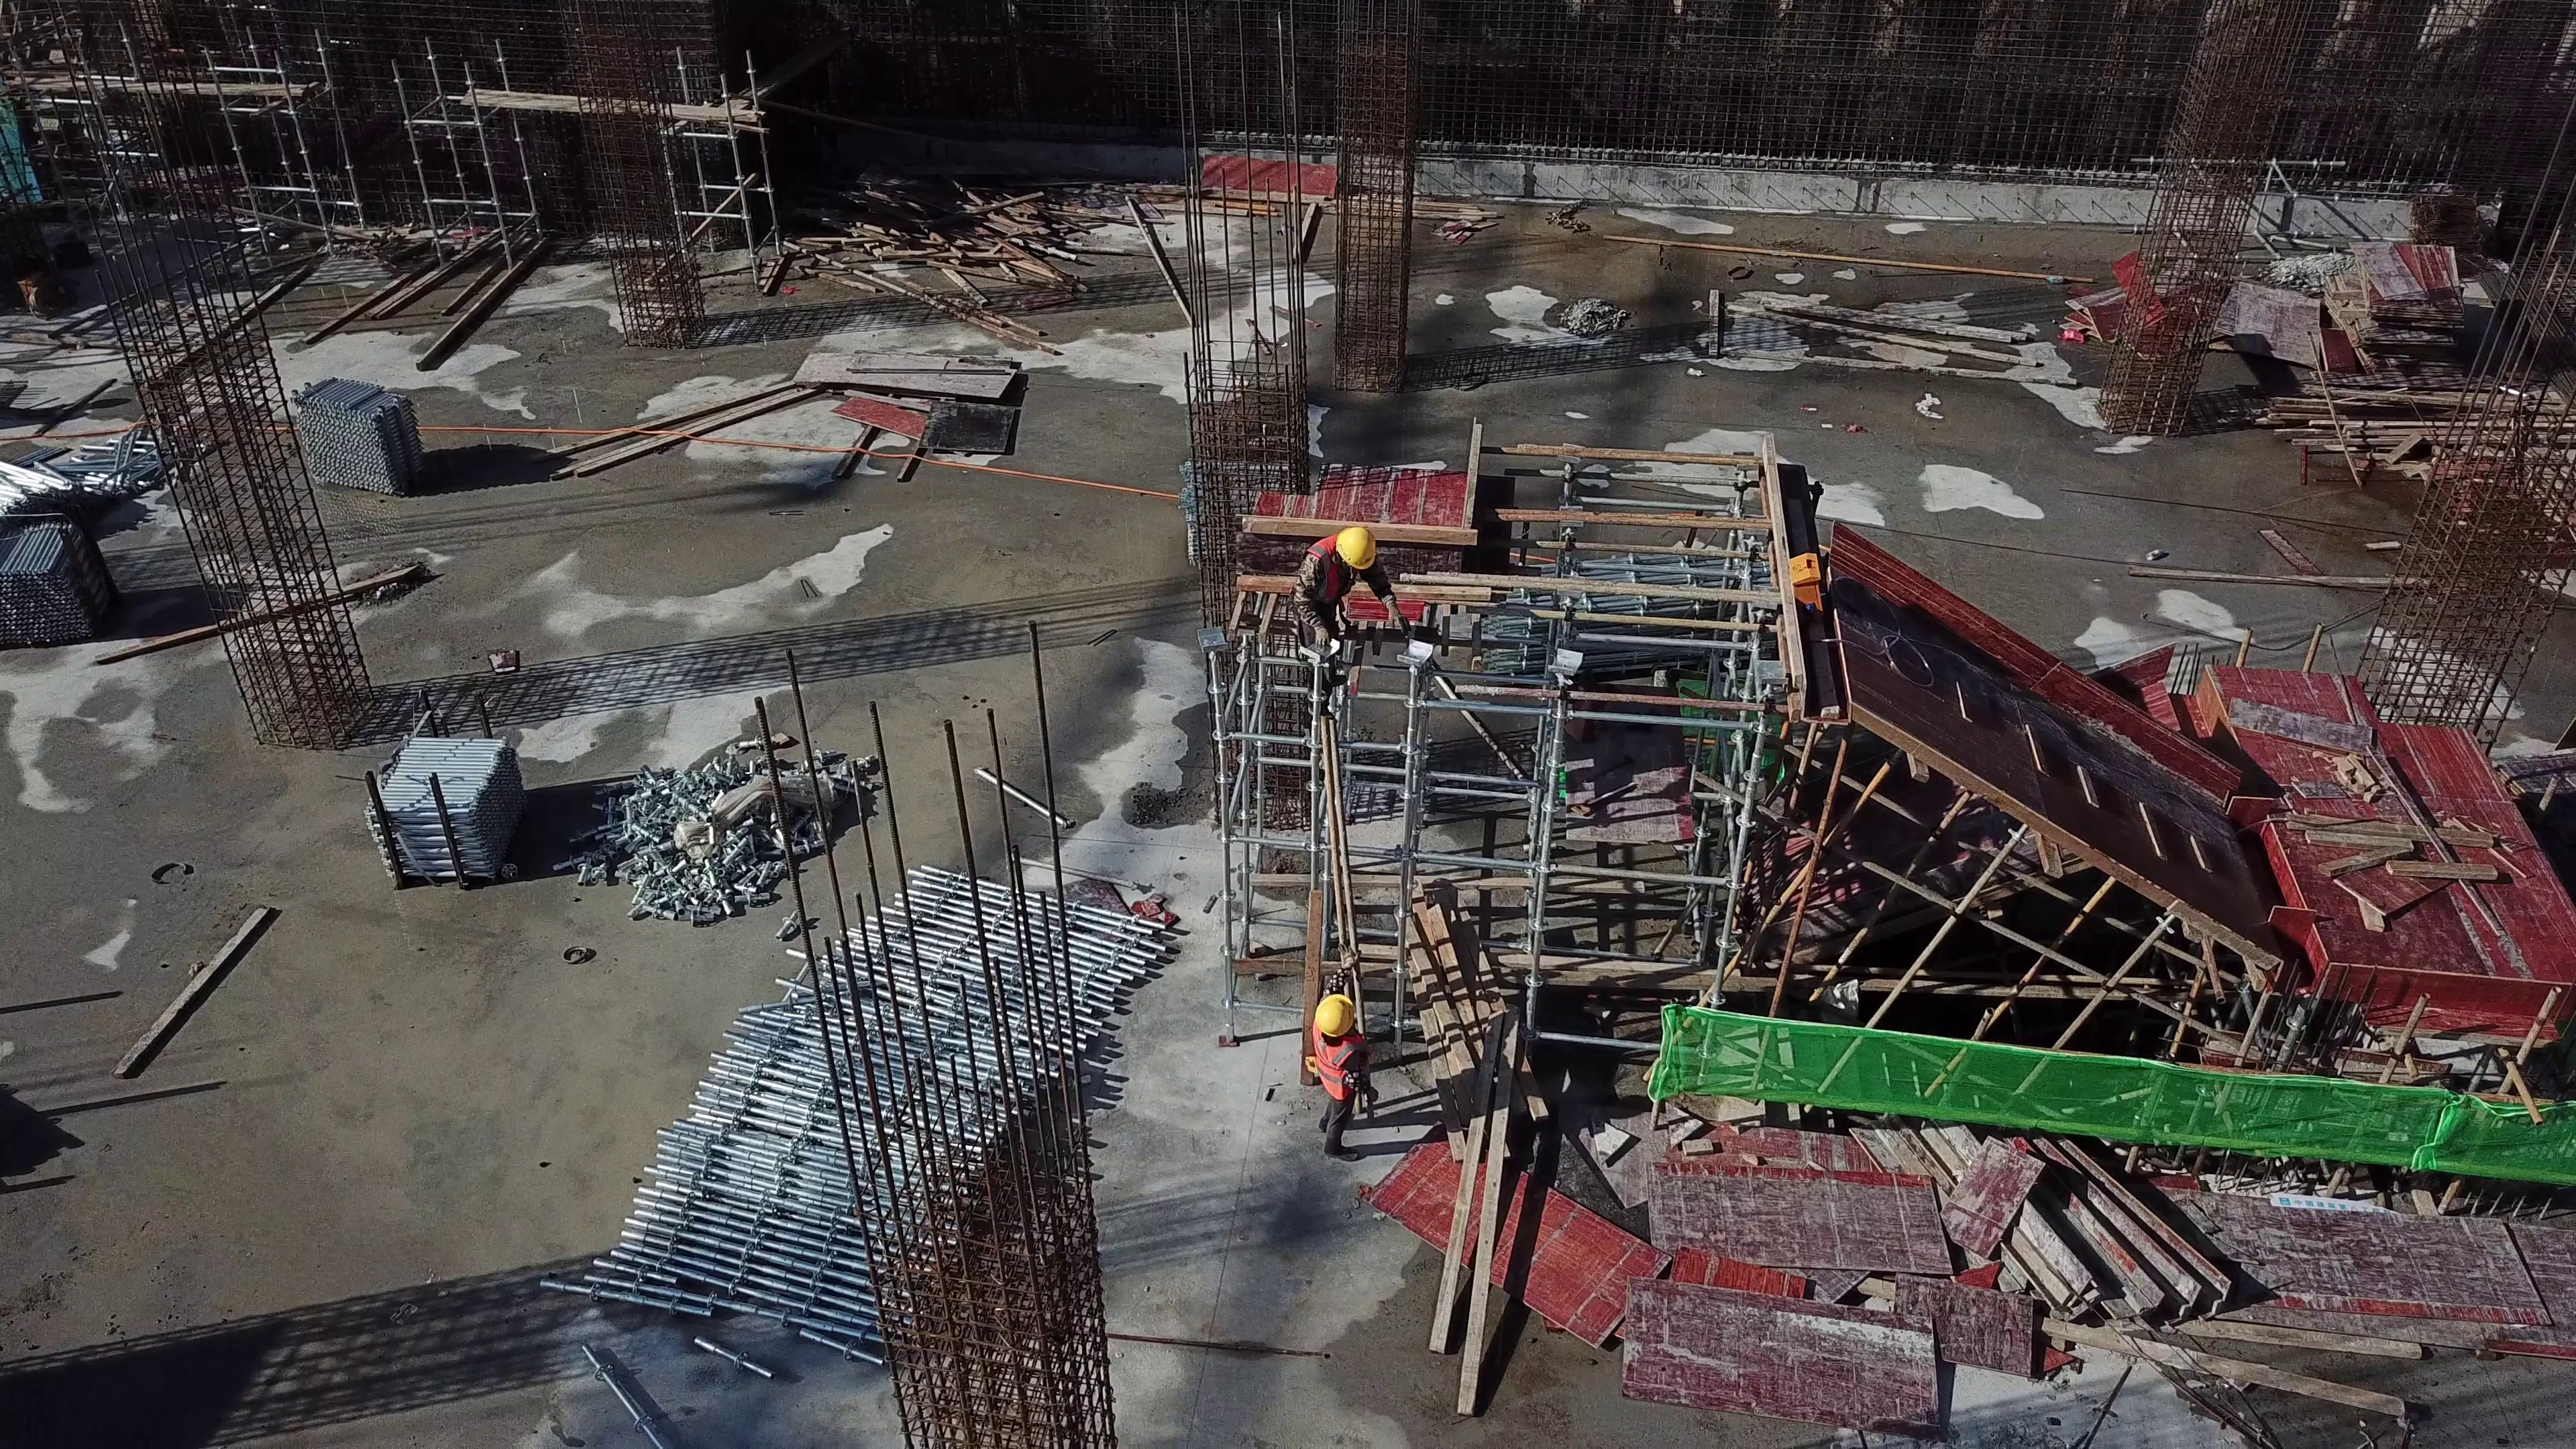helmet: (1334, 523, 1376, 570), (1311, 994, 1352, 1036)
person: (1273, 506, 1426, 685), (1287, 998, 1393, 1166)
vest: (1304, 1029, 1363, 1102), (1309, 533, 1343, 606)
